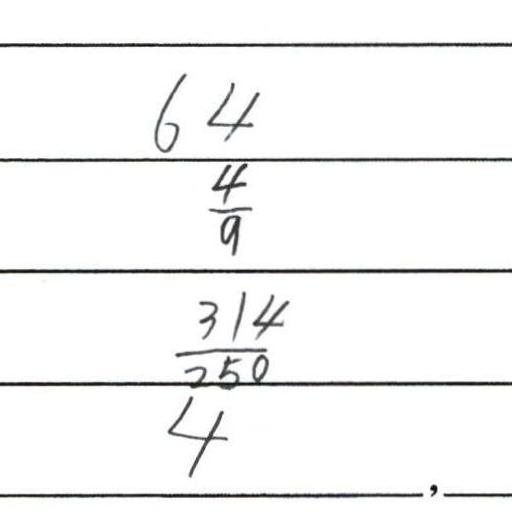ans: (172, 287, 290, 386), (151, 70, 262, 156), (164, 395, 232, 479), (201, 157, 254, 256)
